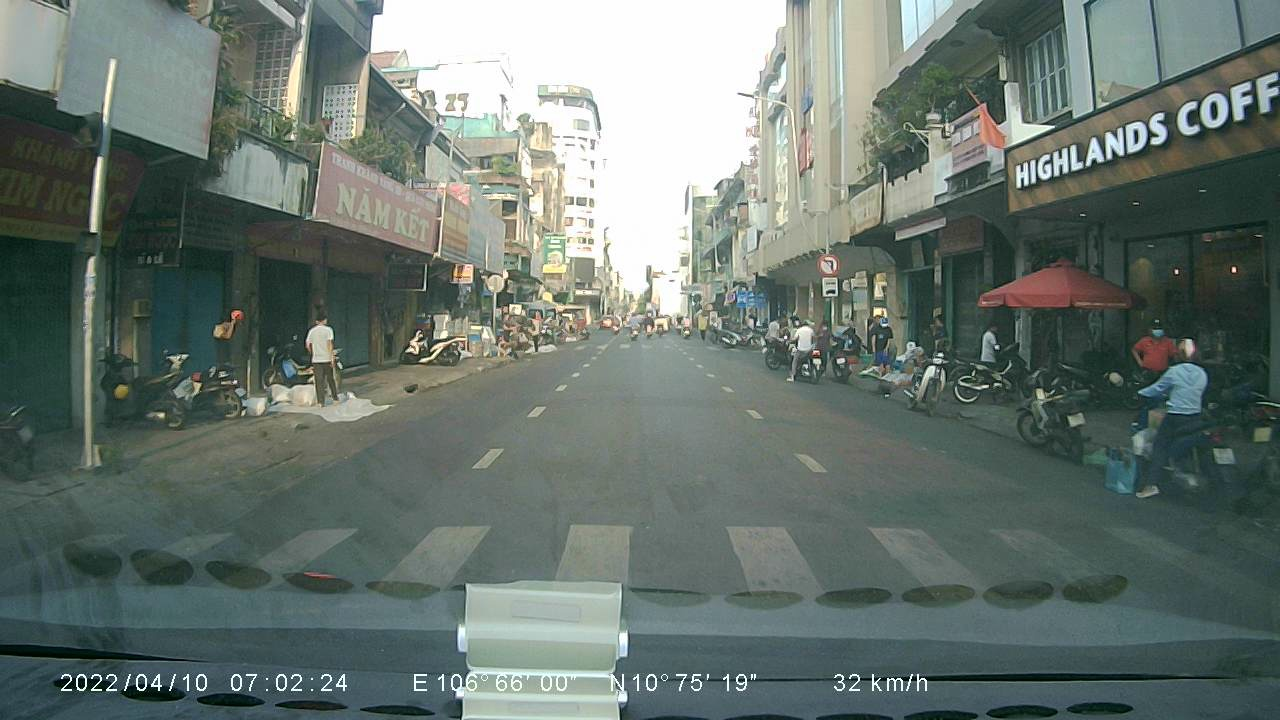Bien khac: (818, 253, 838, 275)
